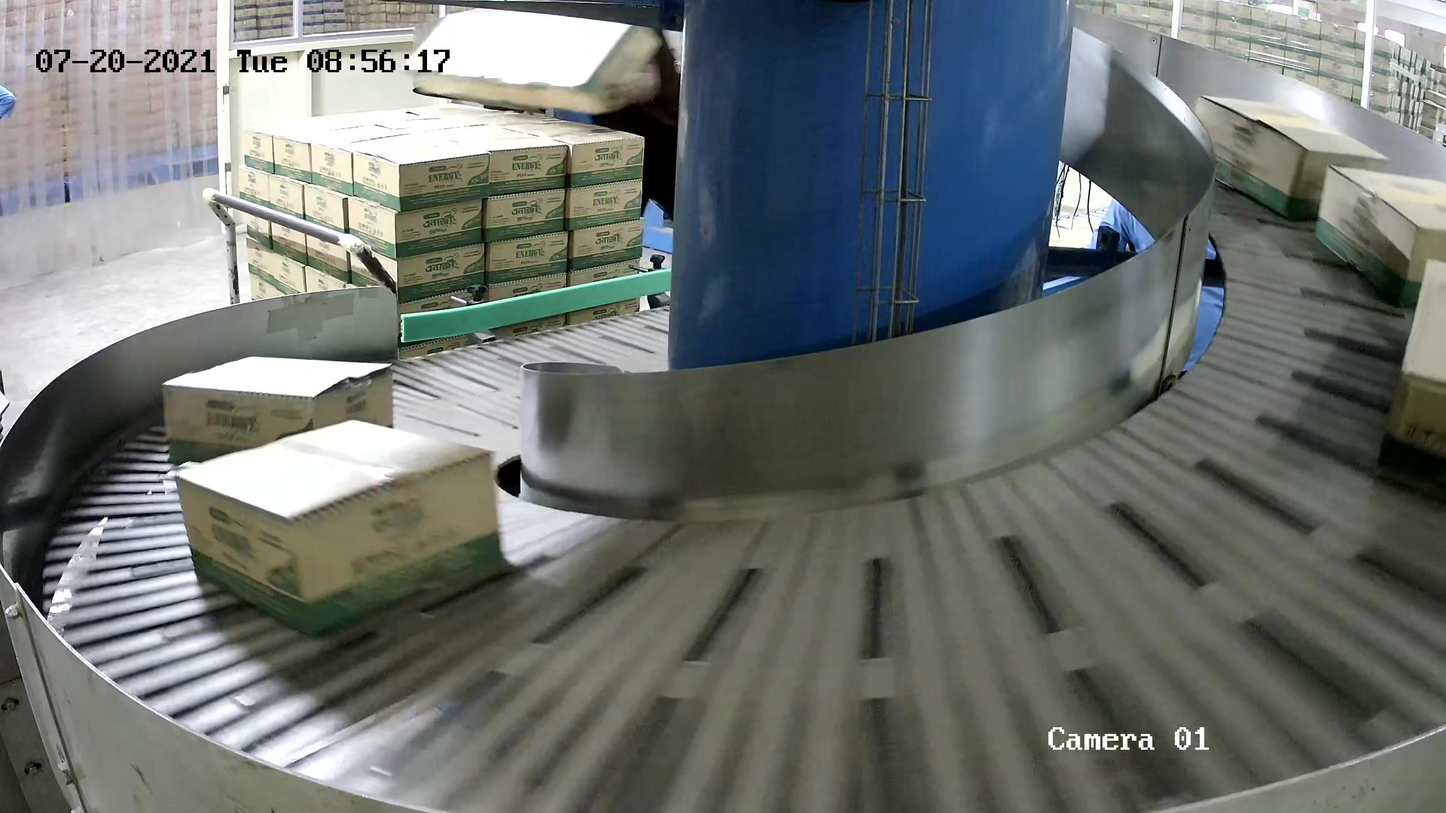Box: (175, 418, 508, 641), (1187, 95, 1391, 238), (162, 356, 398, 476), (1372, 255, 1446, 529), (1312, 164, 1446, 310)
